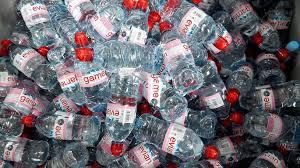Plastic bottle: (2, 1, 299, 168)
